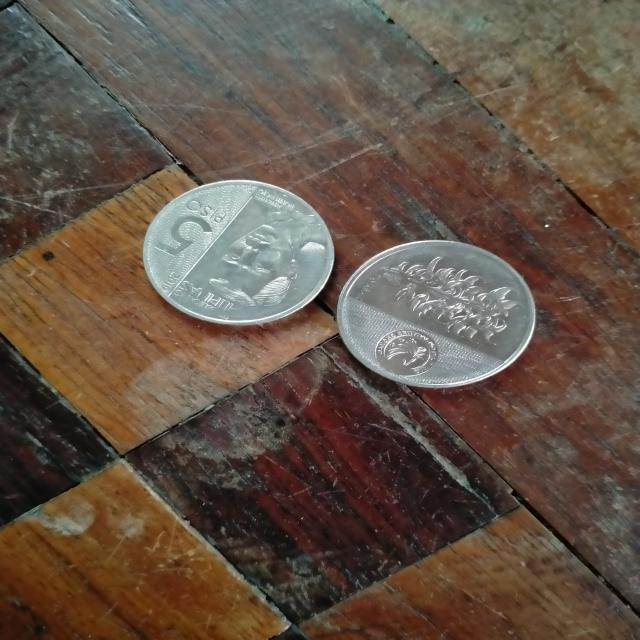5_New_Back: (369, 250, 523, 348)
5_New_Front: (138, 191, 228, 264)
